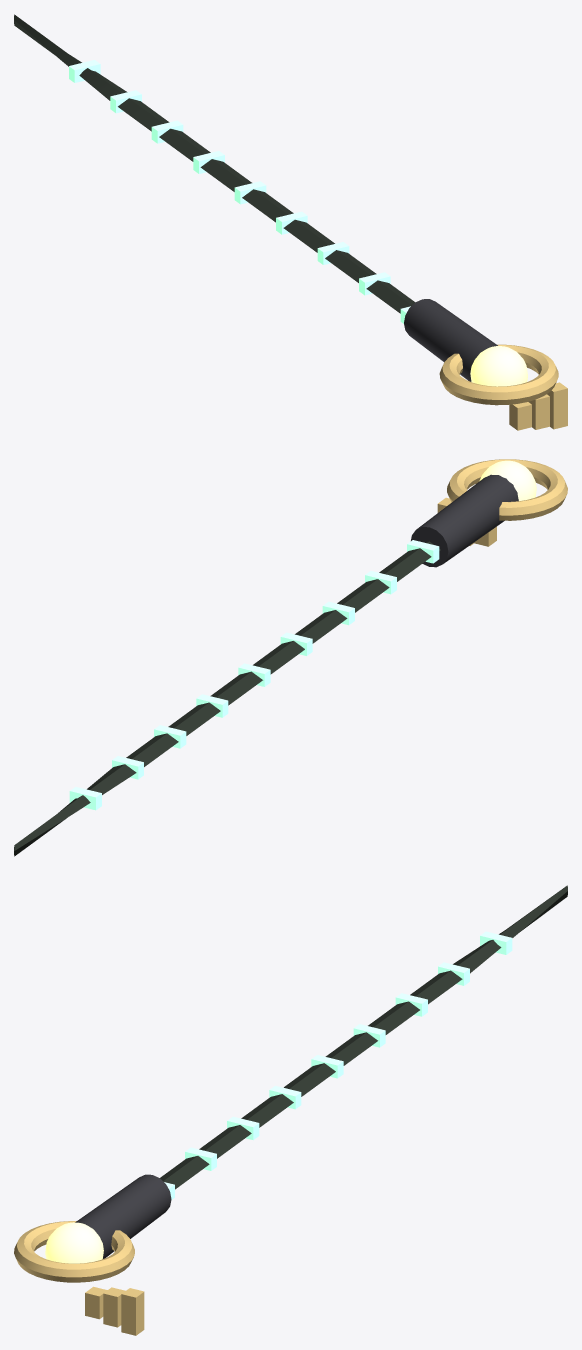
Rendered from estoque_root.glb.
The picture shows the model from 3 angles, top to bottom: view 1: azimuth 30°, elevation 25°; view 2: azimuth 150°, elevation 25°; view 3: azimuth 330°, elevation 25°; orthographic projection.
Parts seen in each view (by area): view 1: estoque_root; view 2: estoque_root; view 3: estoque_root.
Part boxes in pixels (bbox=[...]): estoque_root: bbox=[14, 14, 567, 430]; estoque_root: bbox=[14, 459, 567, 856]; estoque_root: bbox=[14, 885, 567, 1335].
Size of the model in its own units: 0.162 by 0.12 by 1.24.
